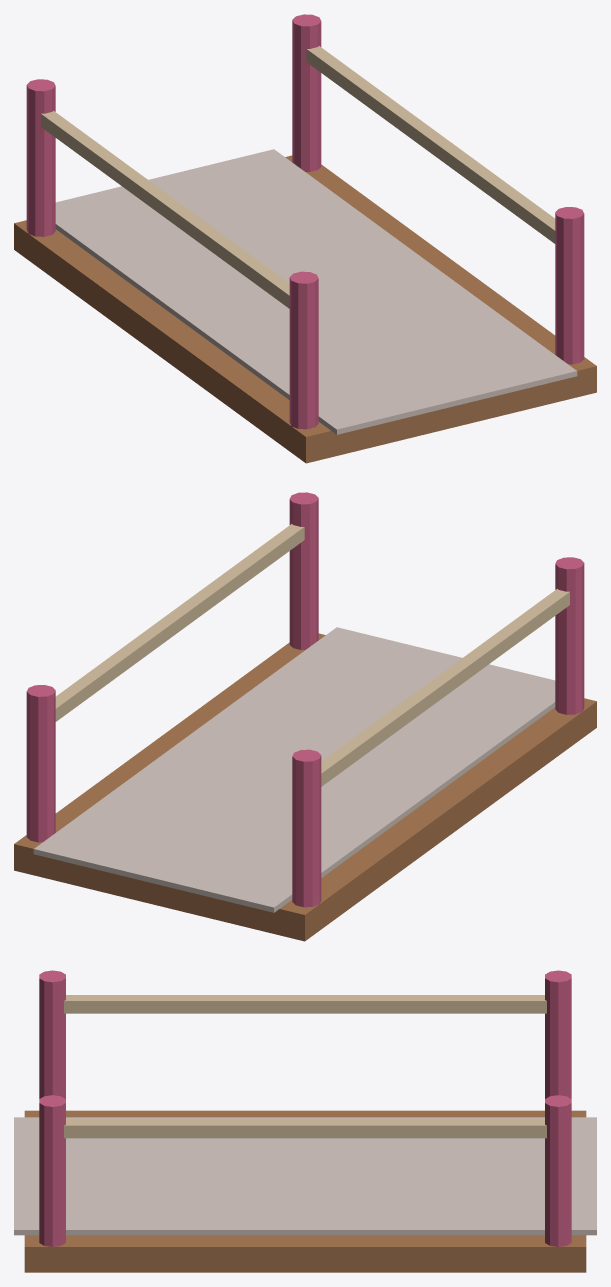
Rendered from Candyland_CookieBridge_Simple.glb.
3 renders of one model, top to bottom at view 1: azimuth 30°, elevation 25°; view 2: azimuth 150°, elevation 25°; view 3: azimuth 270°, elevation 25°, orthographic. The views are drawn at different scales.
Parts seen in each view (by area): view 1: Candyland_CookieBridge_Simple; view 2: Candyland_CookieBridge_Simple; view 3: Candyland_CookieBridge_Simple.
Boxes of the visible parts, x1,y1,x2,y2 form: Candyland_CookieBridge_Simple: [14, 14, 596, 463]; Candyland_CookieBridge_Simple: [14, 492, 596, 941]; Candyland_CookieBridge_Simple: [14, 970, 596, 1272].
Size of the model in its own units: 2.3 by 1.3 by 4.15.
